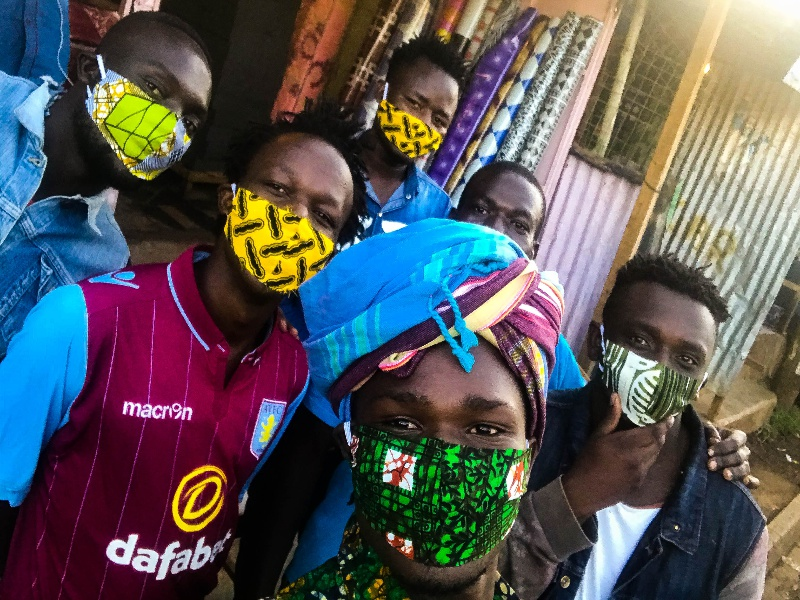ManaoArotava: (339, 283, 537, 585), (223, 106, 362, 319), (77, 15, 230, 205), (588, 245, 721, 463), (375, 54, 474, 188)
